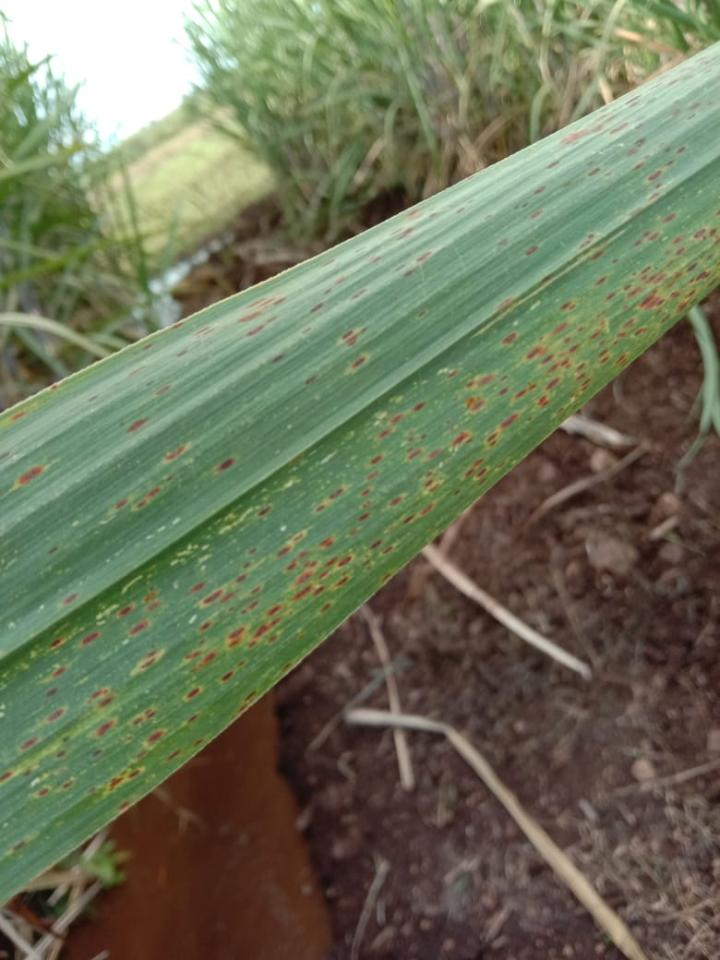Rust: (0, 197, 719, 905), (84, 195, 441, 438), (482, 39, 719, 260), (95, 437, 240, 529), (13, 460, 48, 493), (56, 587, 84, 611), (5, 406, 31, 428), (300, 369, 322, 390), (45, 380, 60, 395)
